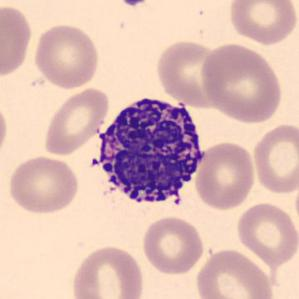Basophil: (85, 87, 211, 220)
Platelets: (117, 0, 149, 7)
RBC: (199, 41, 285, 125), (42, 85, 111, 157), (154, 38, 224, 108), (32, 21, 101, 90), (6, 153, 81, 216), (192, 139, 256, 212), (68, 243, 147, 299), (193, 246, 276, 299), (234, 200, 298, 267), (140, 214, 206, 276), (250, 120, 298, 196), (225, 0, 299, 46), (0, 2, 34, 80), (0, 97, 10, 163), (293, 174, 299, 236)
